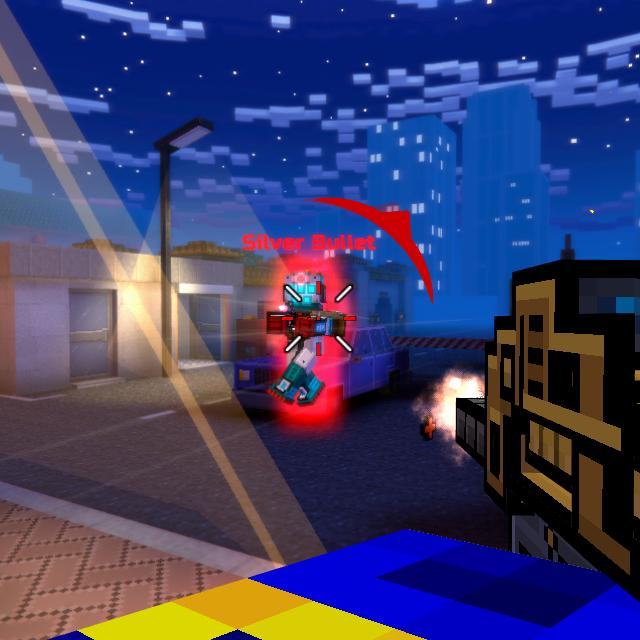Enemy: (265, 272, 346, 409)
